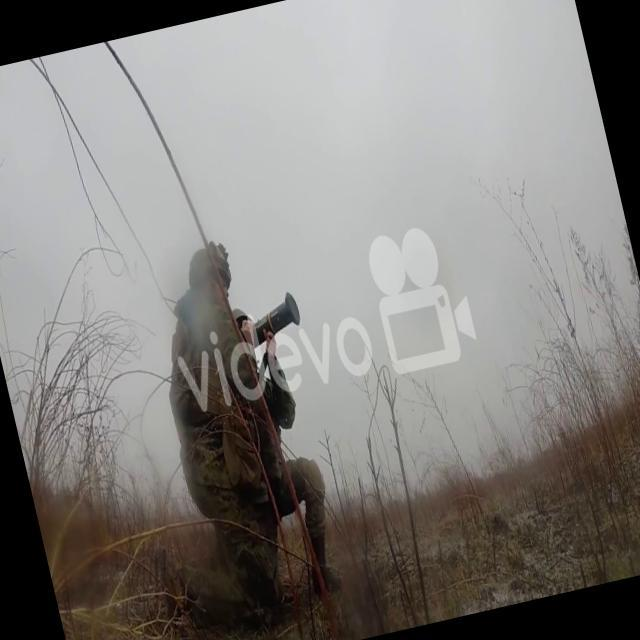rocket: (238, 292, 306, 354)
